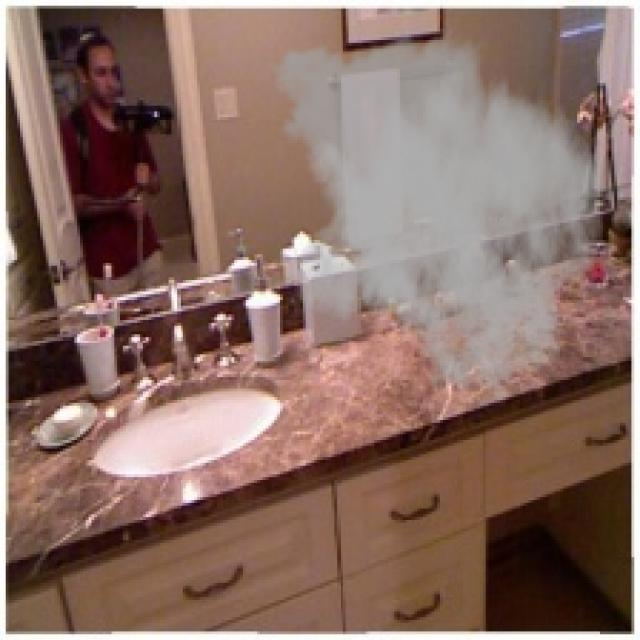Smoke: (260, 23, 606, 406)
